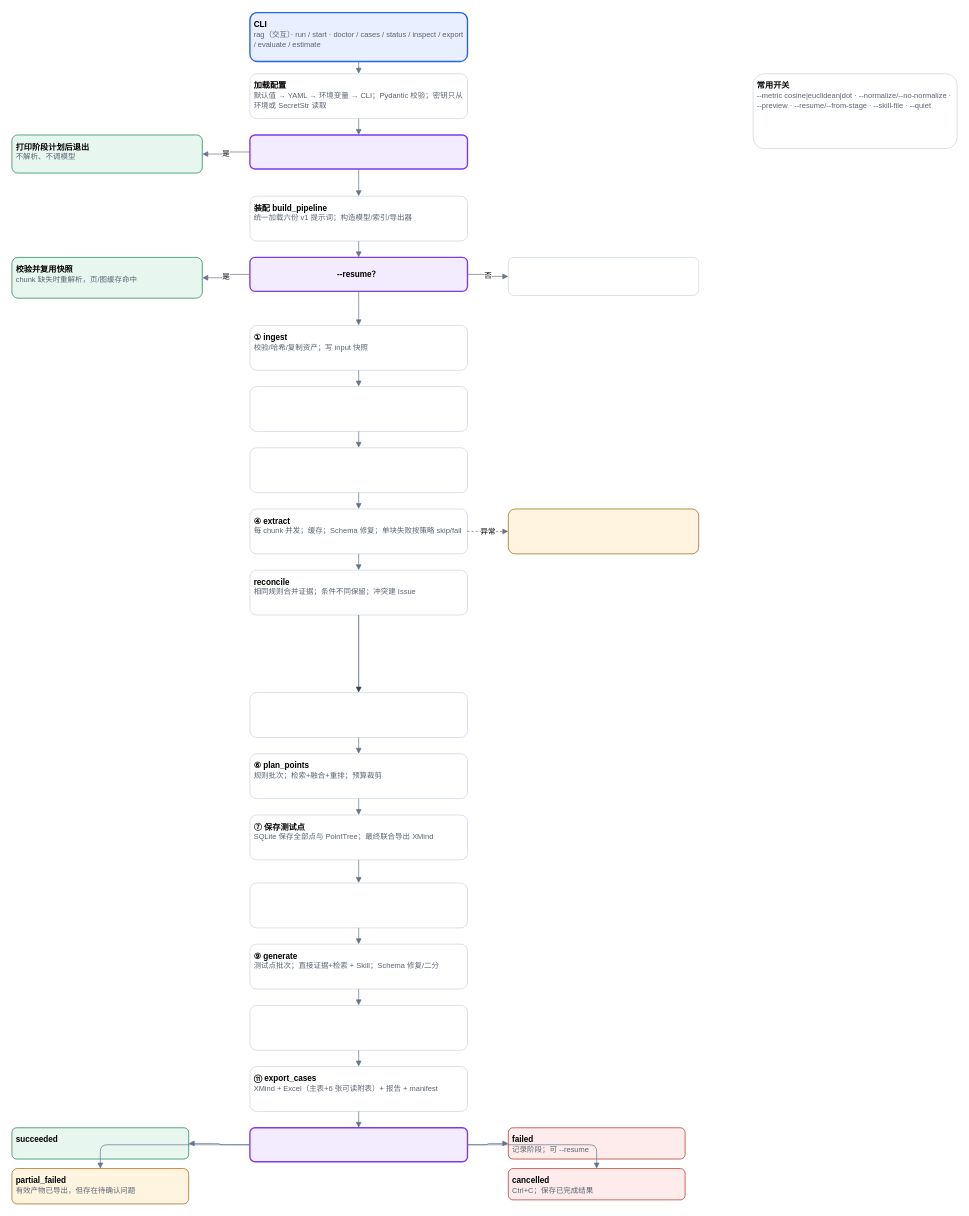
The diagram is 969 pixels wide and 1216 high, and some of its shapes have lost their labels. The centre of each missing label's shape, as x and y in pixels:
"② parse + vision 逐页解析+页检查点；全部页完成后并发转写图片" goes at (358,408).
"③ chunk 结构分块；保留 (block_id, start, end) 来源映射" goes at (358,470).
"⑤ index 需求证据向量化；按 metric / normalize 建索引" goes at (358,714).
"⑧ cases 索引准备 按同一需求集绑定检索索引" goes at (358,905).
"⑩ validate 结构→引用→可执行→依据→重复→覆盖" goes at (358,1027).
"仅预览？" goes at (358,151).
"修复与跳过 Schema 失败→有限修复；仍失败→skip 记 Issue / fail 中止" goes at (603,531).
"新建 Run（running）" goes at (603,276).
"运行结果" goes at (358,1144).
